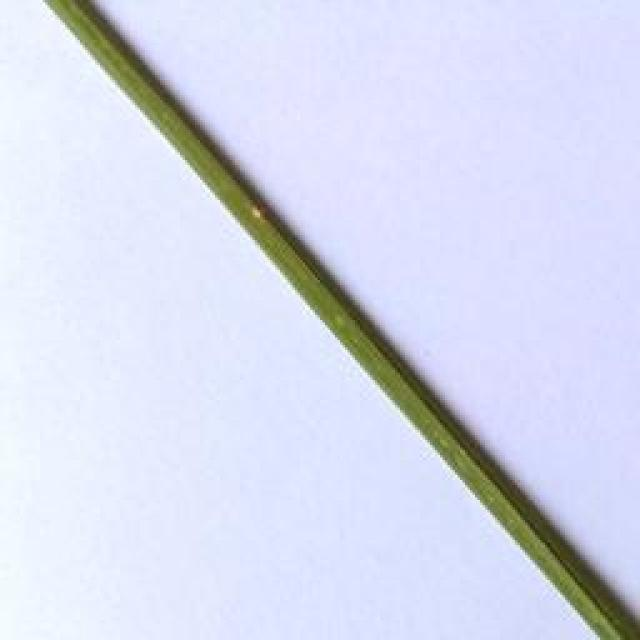Unhealthy: (251, 206, 264, 219)
